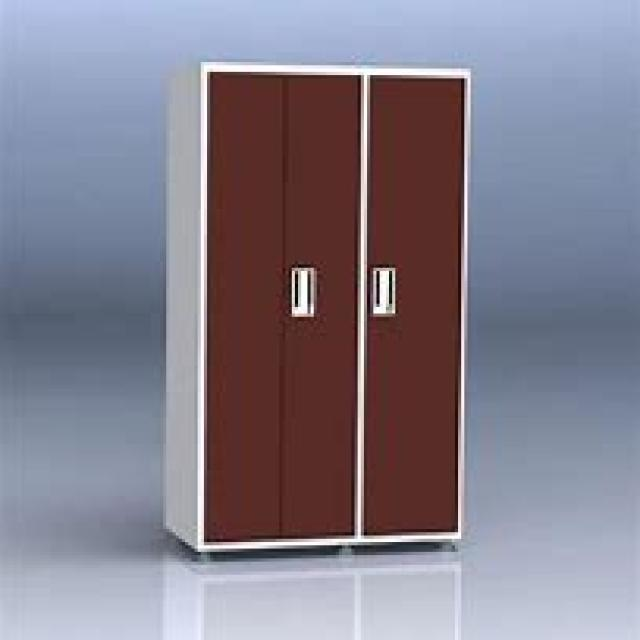dolap: (175, 59, 470, 552)
